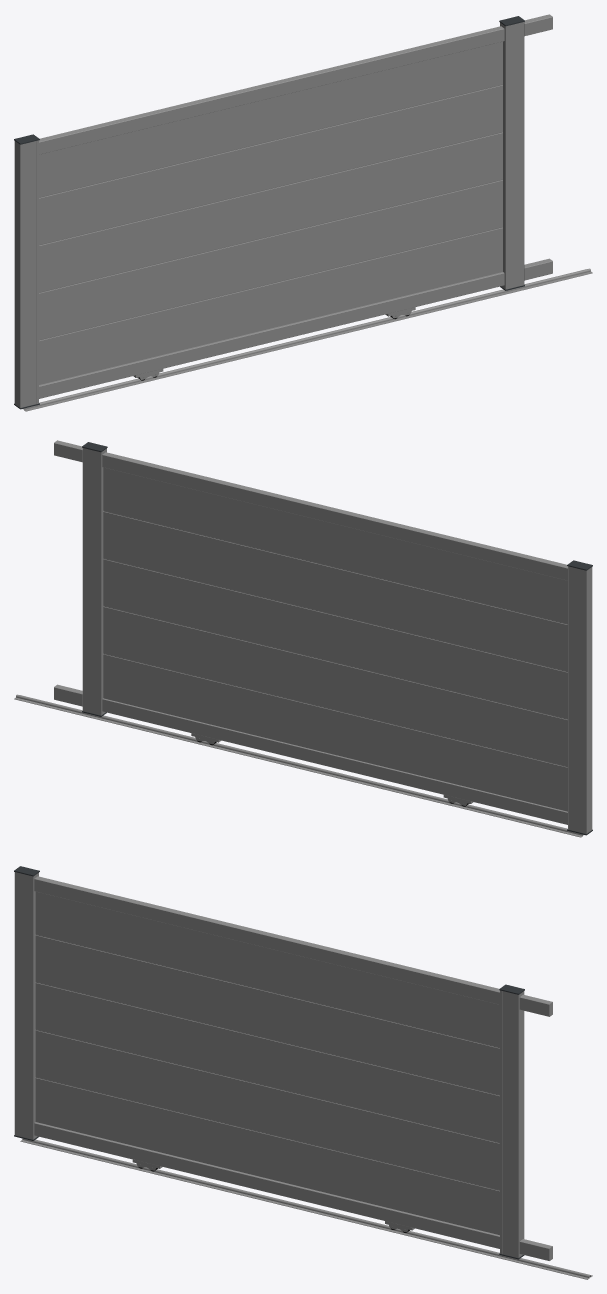
3 renders of one model, top to bottom at view 1: azimuth 30°, elevation 25°; view 2: azimuth 150°, elevation 25°; view 3: azimuth 330°, elevation 25°, orthographic.
Parts seen in each view (by area): view 1: Line013, Line014, Line015, Line016, Line012, Shape096, Shape095, Shape107412643, Shape107413021, Rail; view 2: Line013, Line014, Line015, Line016, Line012, Shape096, Shape095, Shape107412643, Shape107413021, Rail; view 3: Line015, Line013, Line014, Line016, Line012, Shape096, Shape095, Shape107413021, Shape107412643, Rail.
Part boxes in pixels (left/top/right/bottom): Line013: left=39, top=84, right=502, bottom=244; Line014: left=39, top=132, right=502, bottom=292; Line015: left=39, top=179, right=502, bottom=339; Line016: left=39, top=227, right=502, bottom=384; Line012: left=39, top=41, right=502, bottom=197; Shape096: left=39, top=14, right=552, bottom=154; Shape095: left=39, top=258, right=552, bottom=398; Shape107412643: left=14, top=140, right=38, bottom=407; Shape107413021: left=500, top=22, right=524, bottom=289; Rail: left=23, top=268, right=592, bottom=411; Line013: left=103, top=511, right=567, bottom=671; Line014: left=103, top=558, right=567, bottom=718; Line015: left=103, top=606, right=567, bottom=766; Line016: left=103, top=653, right=567, bottom=811; Line012: left=103, top=467, right=567, bottom=623; Shape096: left=54, top=440, right=567, bottom=580; Shape095: left=54, top=684, right=567, bottom=824; Shape107412643: left=568, top=566, right=592, bottom=833; Shape107413021: left=82, top=448, right=106, bottom=715; Rail: left=14, top=694, right=583, bottom=837; Line015: left=35, top=1029, right=499, bottom=1190; Line013: left=35, top=934, right=499, bottom=1094; Line014: left=35, top=982, right=499, bottom=1142; Line016: left=35, top=1077, right=499, bottom=1235; Line012: left=35, top=891, right=499, bottom=1047; Shape096: left=34, top=876, right=552, bottom=1016; Shape095: left=34, top=1122, right=552, bottom=1260; Shape107413021: left=500, top=990, right=524, bottom=1257; Shape107412643: left=14, top=872, right=38, bottom=1139; Rail: left=20, top=1138, right=592, bottom=1279.
Bounding box in the file's own units: 3638 × 1636 × 70.
6 materials, 2 textured.
